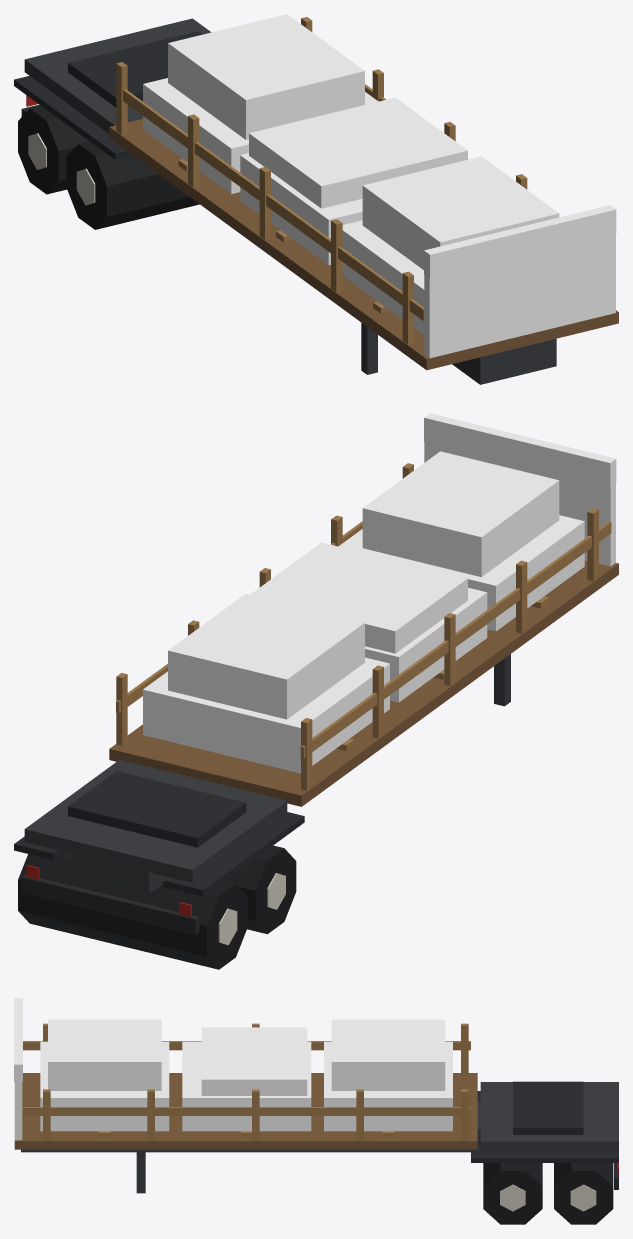
The model's file is rt_flatbed_a.glb.
The picture shows the model from 3 angles, top to bottom: view 1: azimuth 30°, elevation 25°; view 2: azimuth 150°, elevation 25°; view 3: azimuth 270°, elevation 25°; orthographic projection. The views are drawn at different scales.
Parts seen in each view (by area): view 1: model; view 2: model; view 3: model.
Part boxes in pixels (left/top/right/bottom): model: left=14, top=14, right=618, bottom=384; model: left=14, top=413, right=618, bottom=969; model: left=14, top=998, right=618, bottom=1224.
Bounding box in the file's own units: 2.52 × 2.74 × 9.41.
